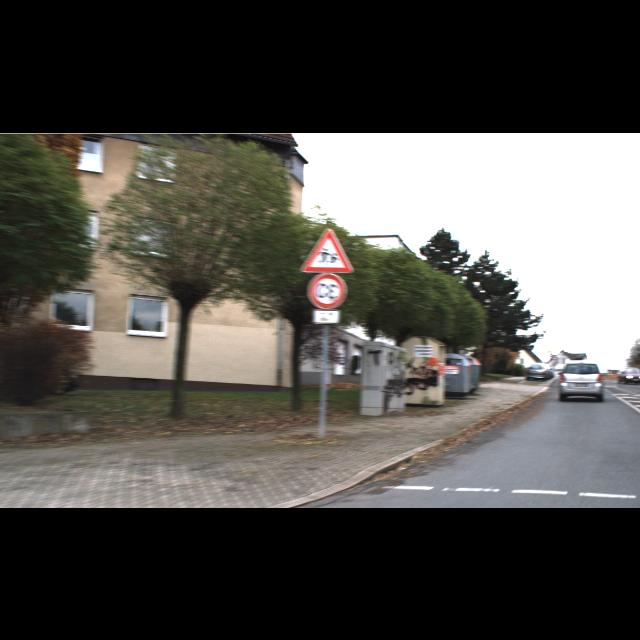danger: (301, 227, 354, 273)
prohibitory: (309, 272, 347, 308)
